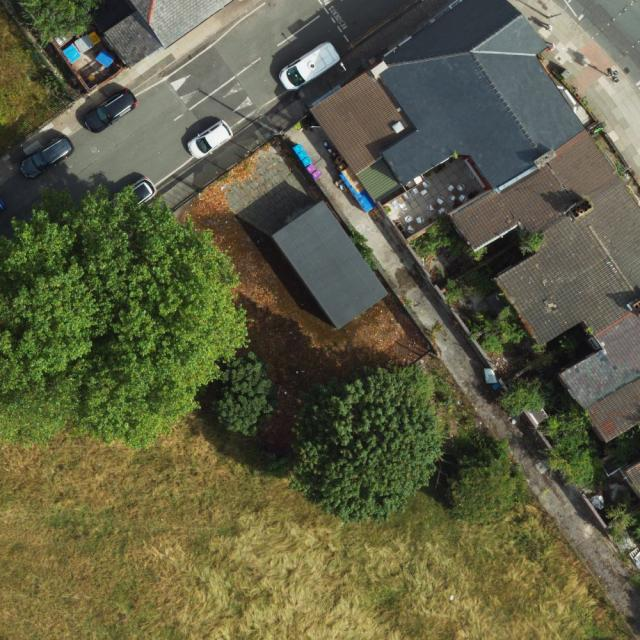roof: (311, 0, 640, 443), (269, 196, 390, 331), (103, 0, 234, 67), (627, 461, 640, 496)
